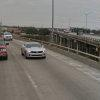Car: (16, 38, 51, 66)
